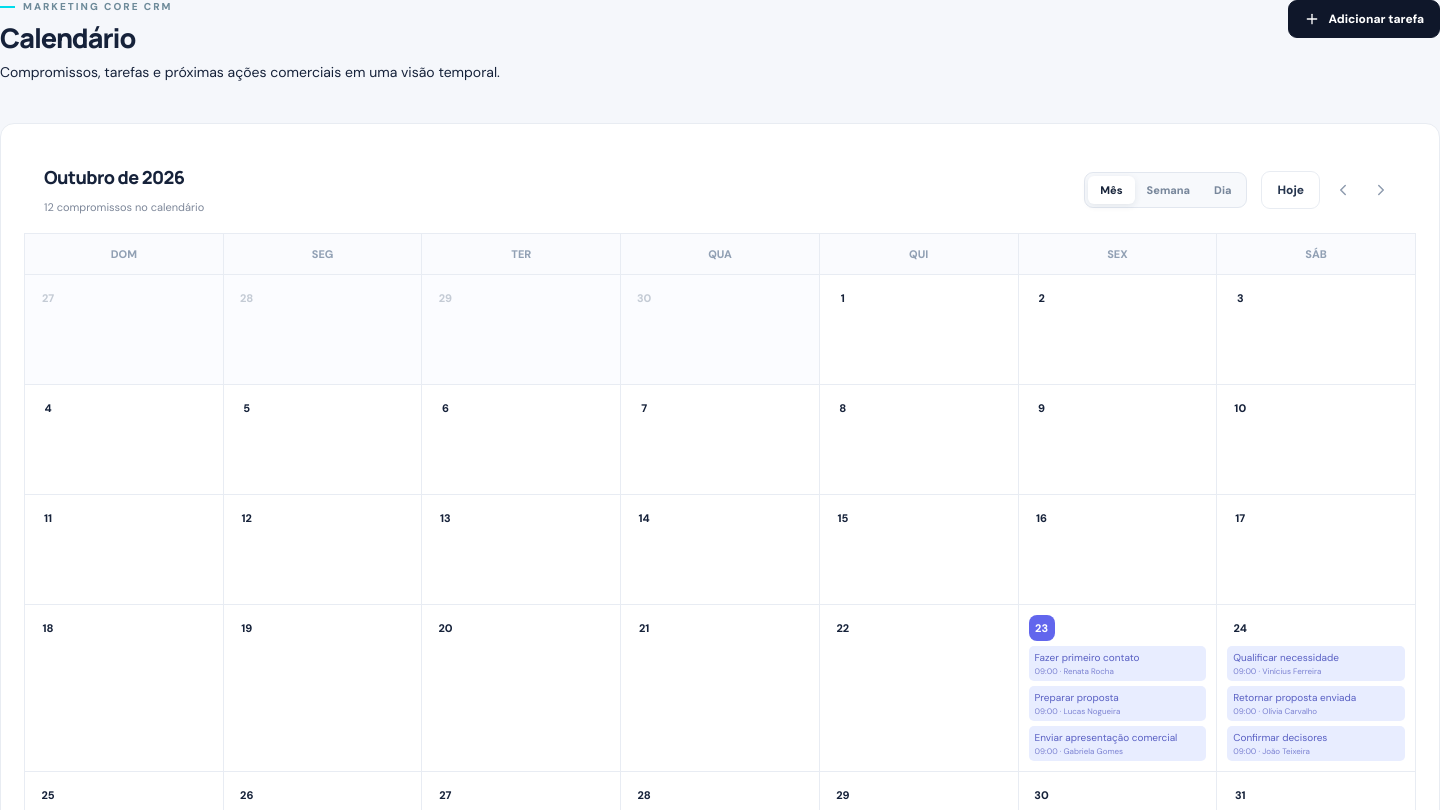
Test: CalendarPage › exige data futura, horário e responsável selecionado ao criar tarefa
Step 1. Click the button "Adicionar tarefa" → (1364, 19), box x1=1288 y1=0 x2=1439 y2=38
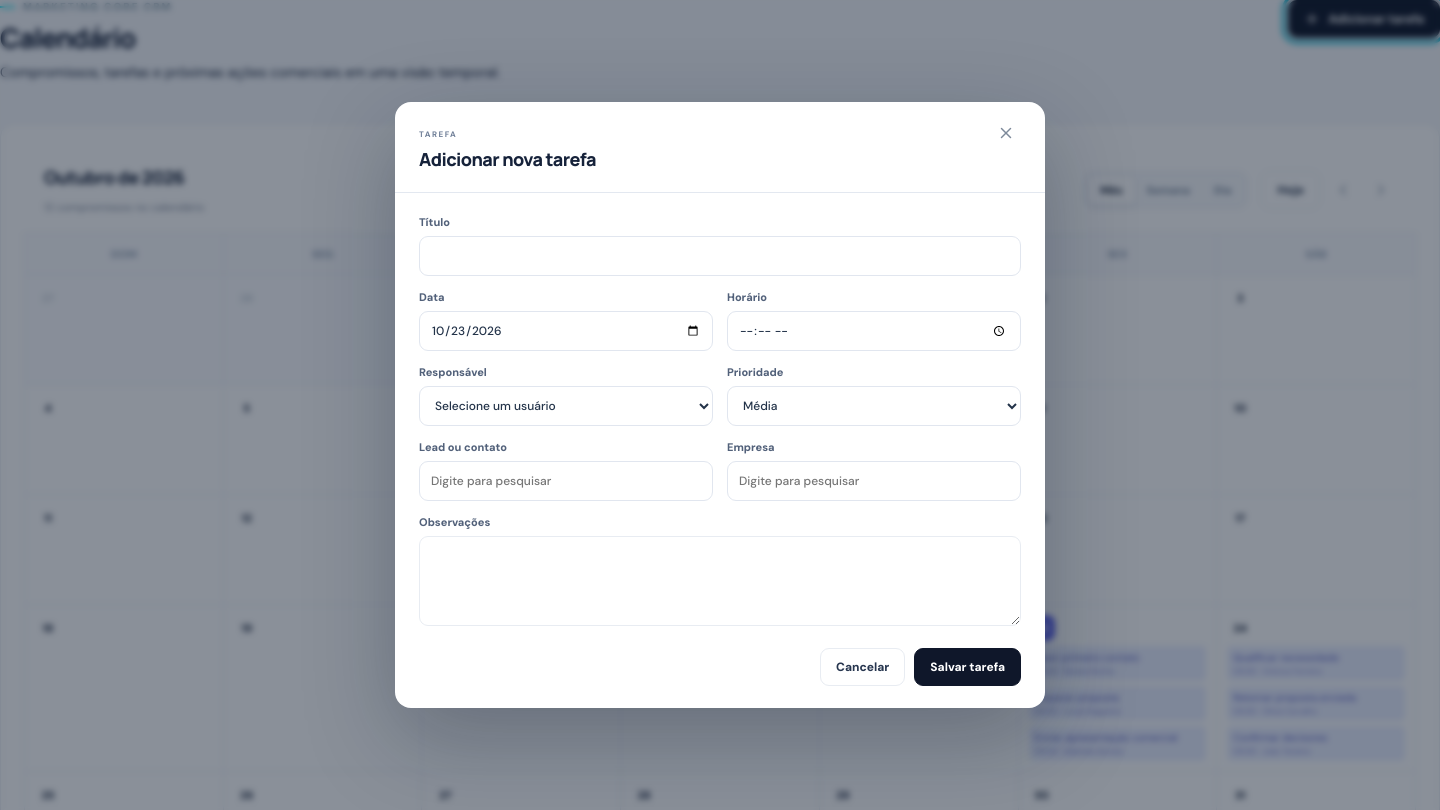
Step 2. Type "Retorno comercial" into the field named "Título da tarefa" → (720, 256), box x1=419 y1=236 x2=1021 y2=276
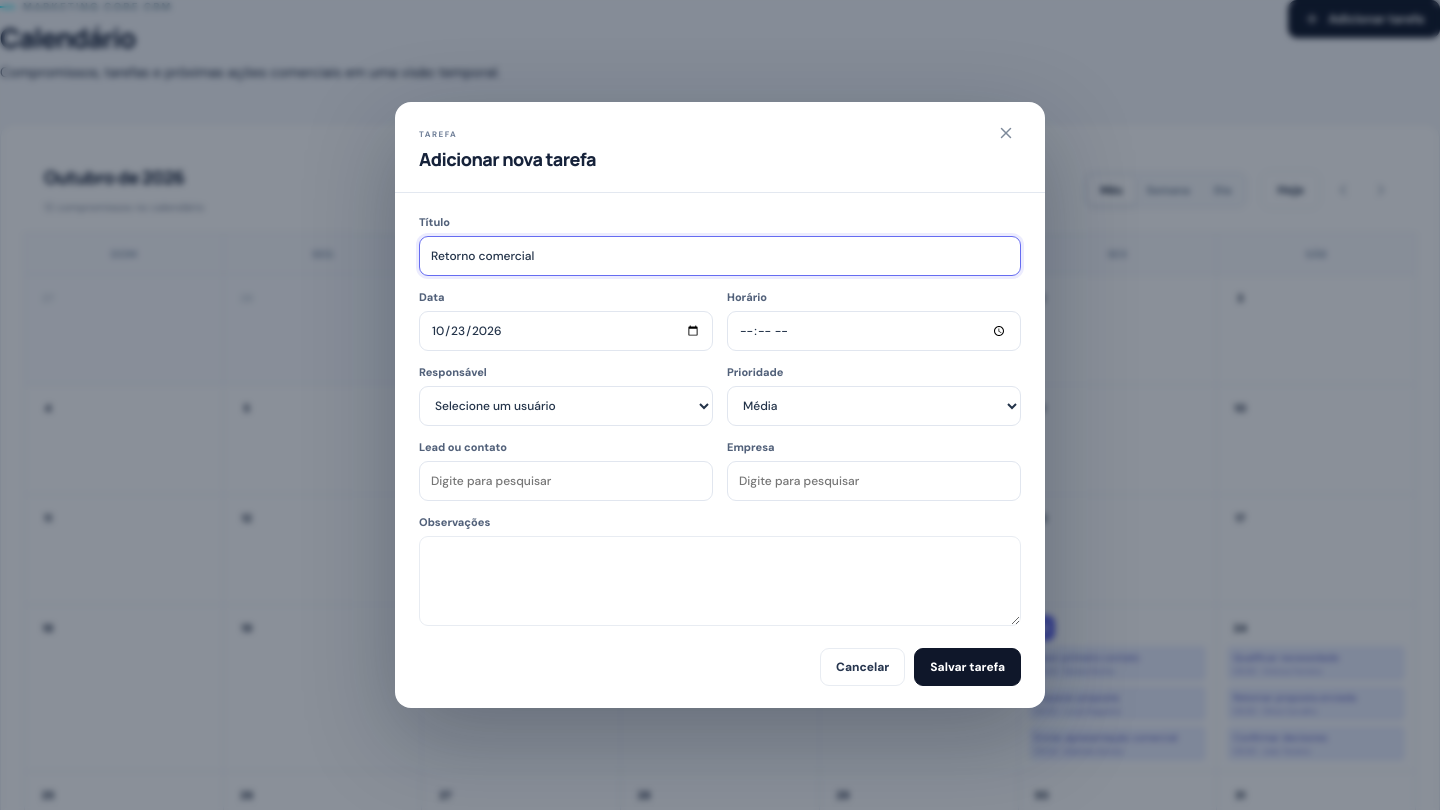
Step 3. Type "2026-10-22" into the date field named "Data da tarefa" → (566, 331), box x1=419 y1=311 x2=713 y2=351
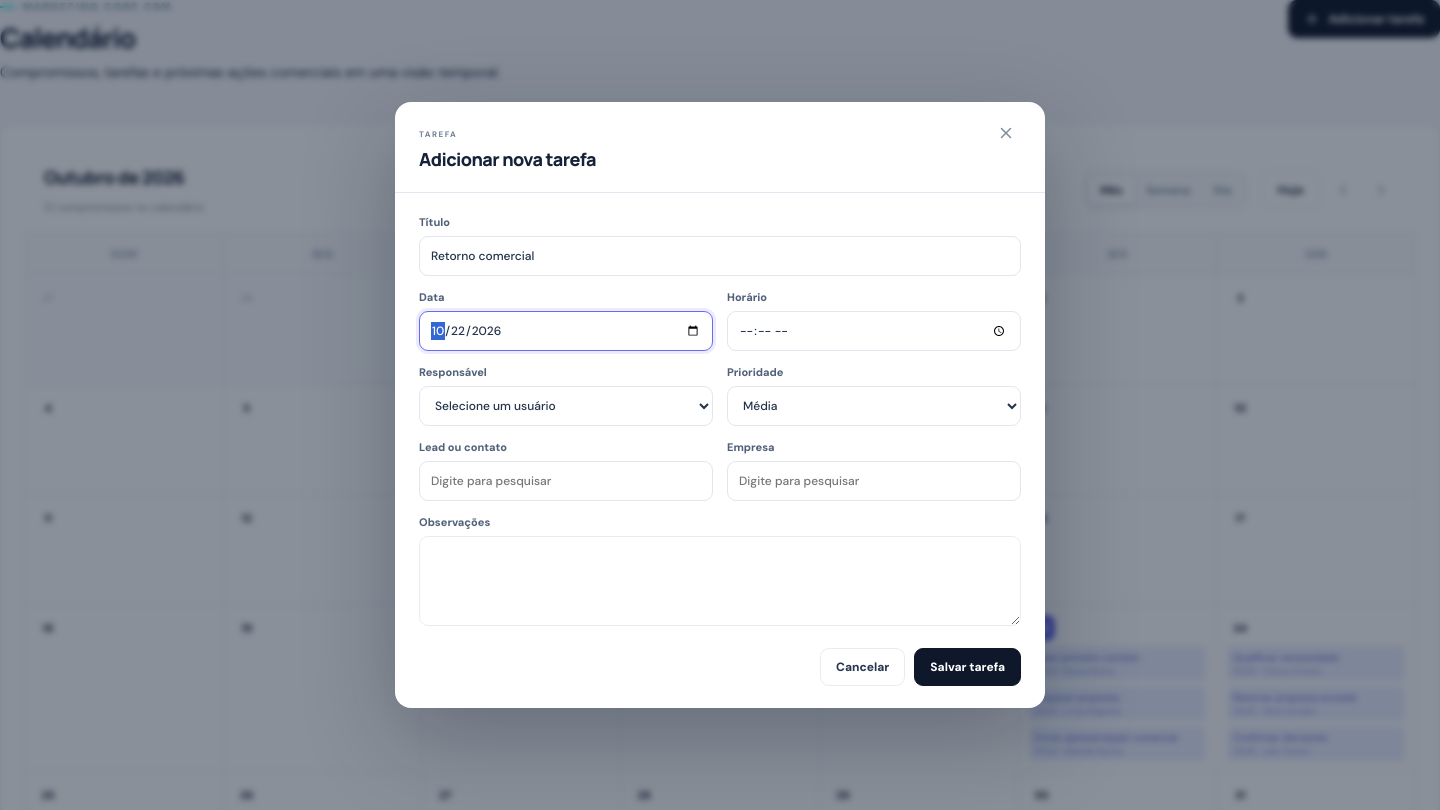
Step 4. Type "10:00" into the time field named "Horário da tarefa" → (874, 331), box x1=727 y1=311 x2=1021 y2=351
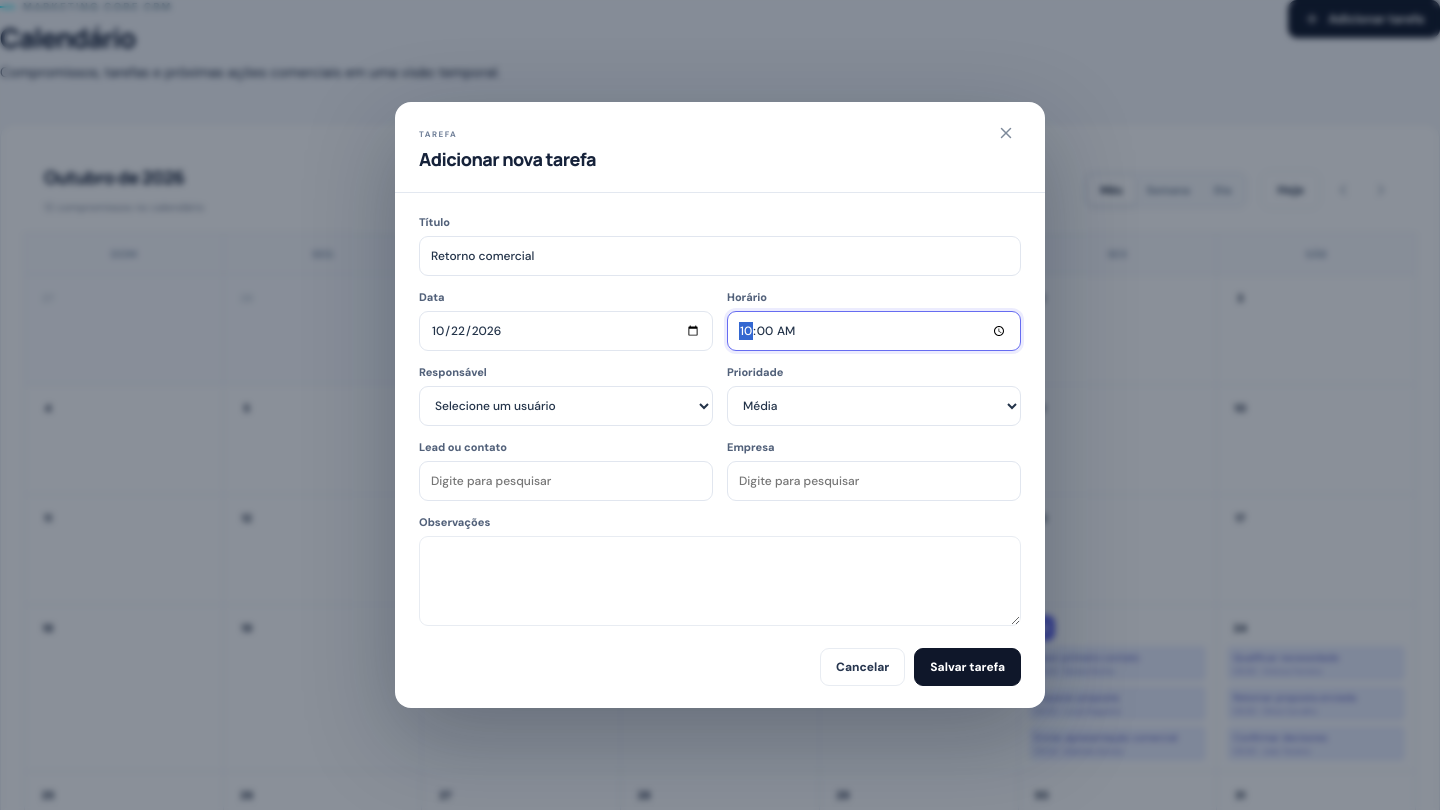
Step 5. Select "Camila Andrade" in the dropdown named "Responsável pela tarefa" → (566, 406), box x1=419 y1=386 x2=713 y2=426
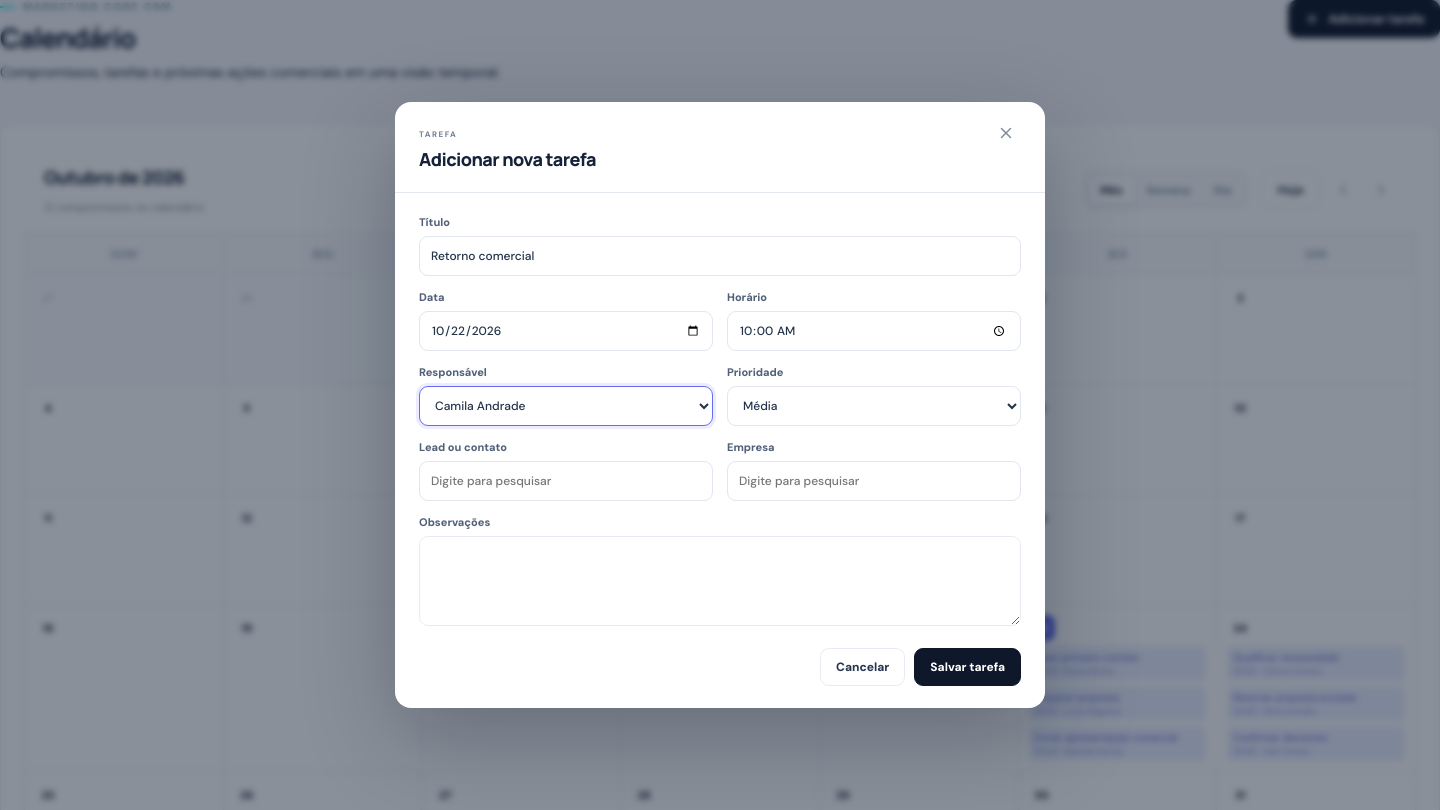
Step 6. Click the button "Salvar tarefa" → (968, 667), box x1=914 y1=648 x2=1021 y2=686
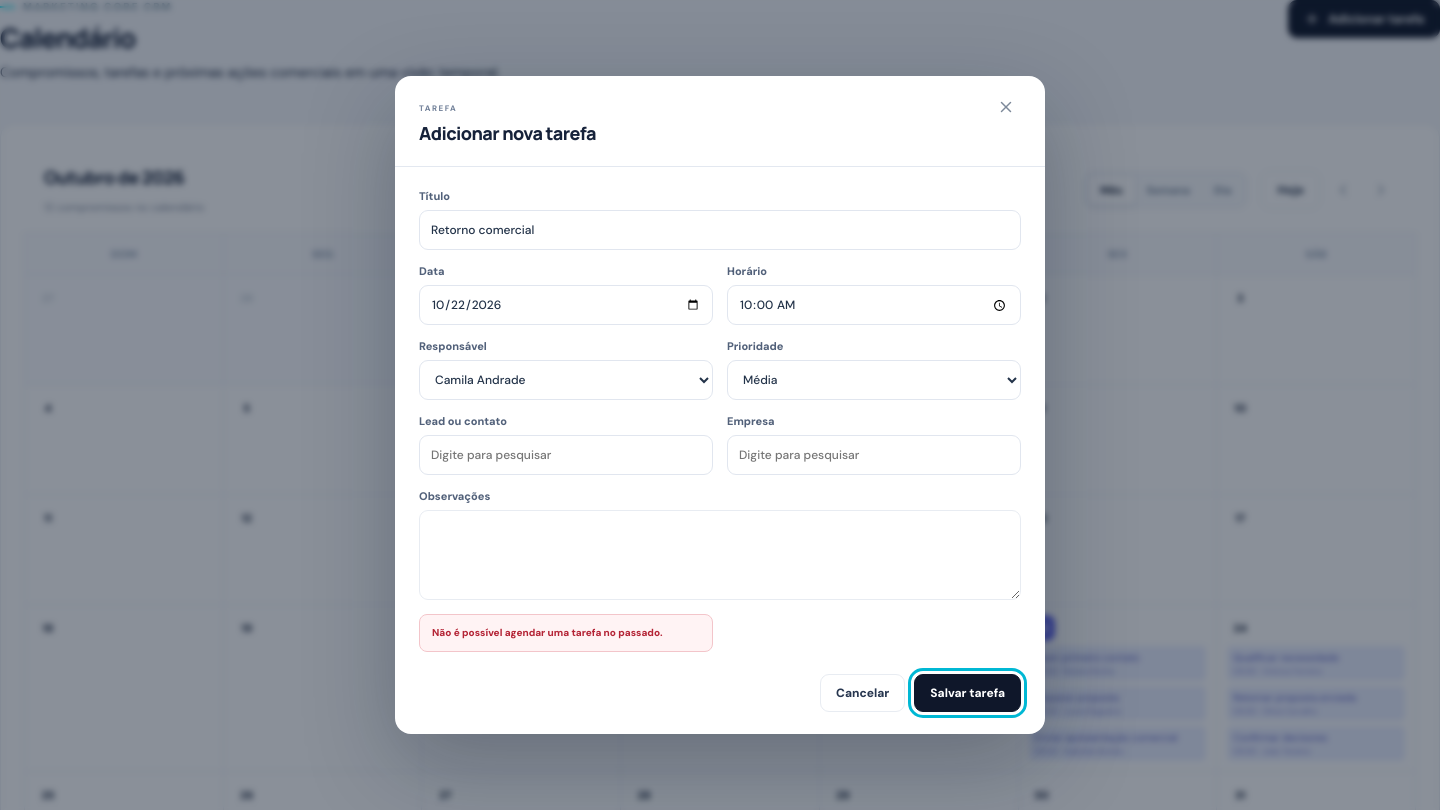
Now the text "Não é possível agendar uma tarefa no passado." is shown, box x1=419 y1=614 x2=713 y2=652
